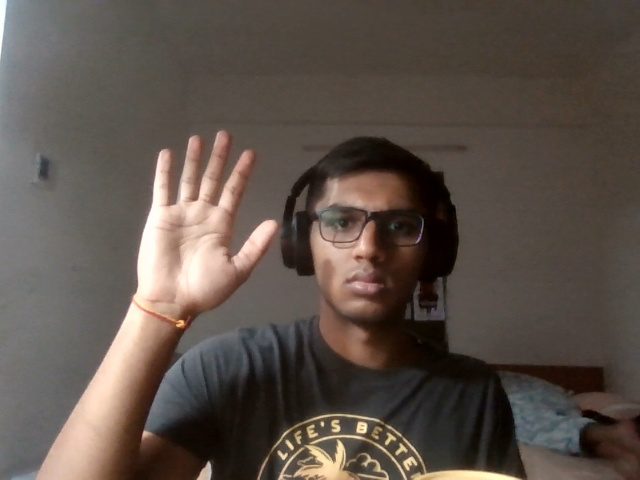hello: (135, 128, 279, 329)
